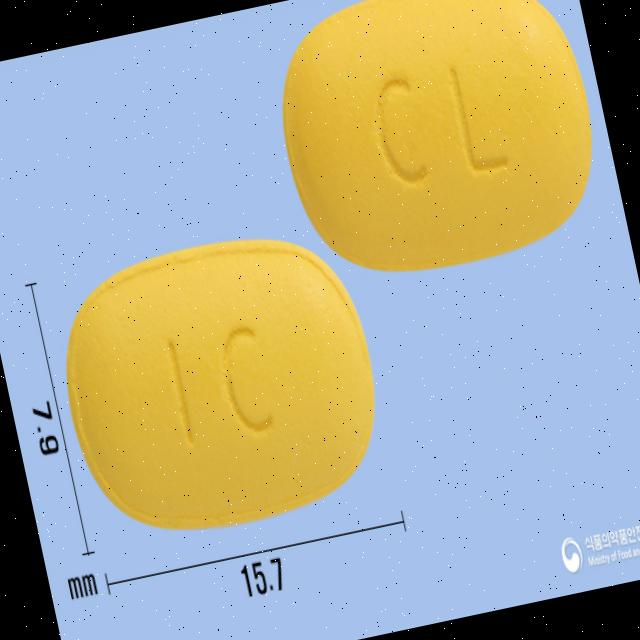Clocin: (39, 213, 398, 554), (259, 0, 615, 294)
